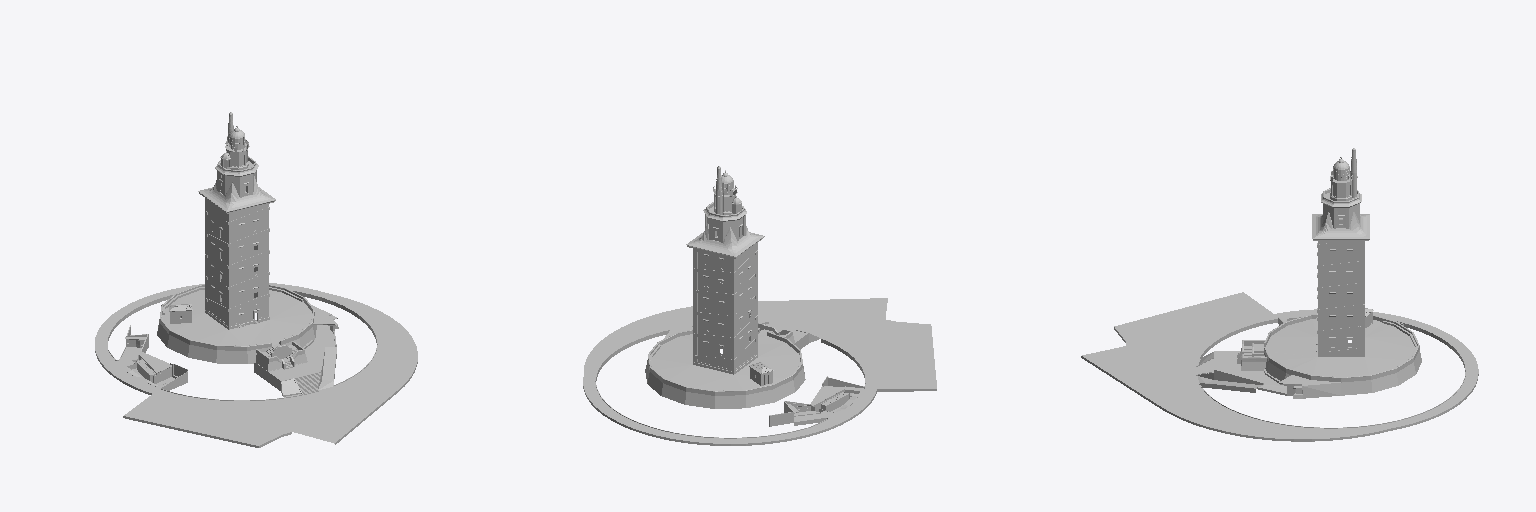
Rendered from torresola.obj.
3 renders of one model, left to right at view 1: azimuth 30°, elevation 25°; view 2: azimuth 150°, elevation 25°; view 3: azimuth 270°, elevation 25°, orthographic.
Parts seen in each view (by area): view 1: polySurface22 BaseModelo, FachadaExt FachadaEste, BaseTorre Chan, BaseTorre polySurface129, FachadaExt FachadaSur, FachadaExt Octogono, EscaleirasBase polySurface117, Servicios polySurface115, AceirasFora AceiraExt, EscaleirasAcceso polySurface71; view 2: polySurface22 BaseModelo, FachadaExt FachadaOeste, BaseTorre Chan, BaseTorre polySurface129, FachadaExt FachadaSur, FachadaExt Octogono, Servicios polySurface115, AceirasFora AceiraExt; view 3: polySurface22 BaseModelo, FachadaNorte FachadaExt, BaseTorre Chan, BaseTorre polySurface129, FachadaExt Octogono, EscaleirasBase polySurface117, AceirasFora AceiraExt, EscaleirasAcceso polySurface71.
Boxes of the visible parts, x1=… form: polySurface22 BaseModelo: x1=95, y1=283, x2=417, y2=447; FachadaExt FachadaEste: x1=228, y1=204, x2=269, y2=329; BaseTorre Chan: x1=162, y1=290, x2=311, y2=348; BaseTorre polySurface129: x1=157, y1=284, x2=338, y2=363; FachadaExt FachadaSur: x1=205, y1=198, x2=228, y2=329; FachadaExt Octogono: x1=198, y1=156, x2=275, y2=211; EscaleirasBase polySurface117: x1=268, y1=325, x2=336, y2=397; Servicios polySurface115: x1=126, y1=325, x2=187, y2=390; AceirasFora AceiraExt: x1=107, y1=290, x2=377, y2=400; EscaleirasAcceso polySurface71: x1=254, y1=341, x2=307, y2=381; polySurface22 BaseModelo: x1=583, y1=298, x2=936, y2=445; FachadaExt FachadaOeste: x1=693, y1=249, x2=733, y2=374; BaseTorre Chan: x1=652, y1=329, x2=800, y2=390; BaseTorre polySurface129: x1=645, y1=324, x2=805, y2=408; FachadaExt FachadaSur: x1=734, y1=243, x2=757, y2=373; FachadaExt Octogono: x1=686, y1=202, x2=763, y2=256; Servicios polySurface115: x1=769, y1=376, x2=864, y2=426; AceirasFora AceiraExt: x1=595, y1=326, x2=865, y2=438; polySurface22 BaseModelo: x1=1081, y1=292, x2=1478, y2=441; FachadaNorte FachadaExt: x1=1317, y1=241, x2=1364, y2=356; BaseTorre Chan: x1=1254, y1=318, x2=1414, y2=376; BaseTorre polySurface129: x1=1264, y1=314, x2=1421, y2=398; FachadaExt Octogono: x1=1312, y1=188, x2=1369, y2=238; EscaleirasBase polySurface117: x1=1196, y1=351, x2=1286, y2=392; AceirasFora AceiraExt: x1=1199, y1=319, x2=1465, y2=428; EscaleirasAcceso polySurface71: x1=1237, y1=340, x2=1266, y2=370.
Size of the model in its own units: 7.72 by 5.58 by 8.8.